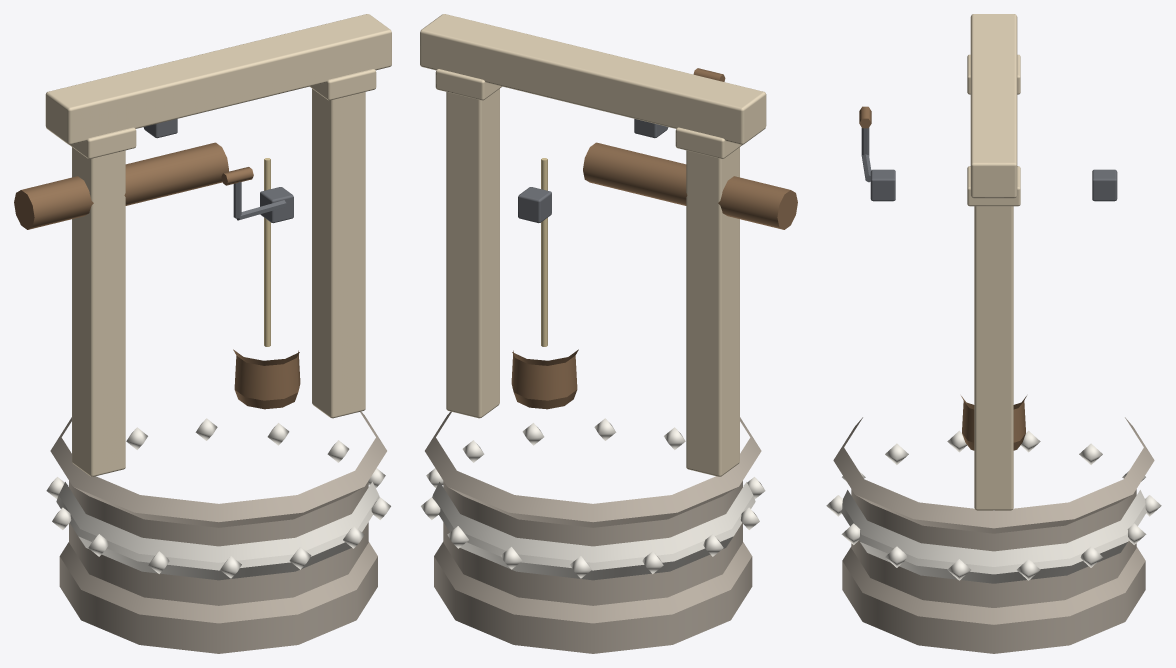
Rendered from well-head-with-win-c58374ab.glb.
3 views of the same model, side by side, from view 1: azimuth 30°, elevation 25°; view 2: azimuth 150°, elevation 25°; view 3: azimuth 270°, elevation 25° (orthographic). The views are drawn at different scales.
Visible parts, largest first — view 1: well-head-with-windlass, windlass/cedar, windlass/iron; view 2: well-head-with-windlass, windlass/cedar, windlass/iron; view 3: well-head-with-windlass, windlass/iron.
Part boxes in pixels (x1,y1,x2,y2): well-head-with-windlass: (45,14,391,653); windlass/cedar: (14,142,253,229); windlass/iron: (143,119,293,223); well-head-with-windlass: (420,14,766,653); windlass/cedar: (583,68,797,229); windlass/iron: (518,119,668,223); well-head-with-windlass: (826,14,1161,653); windlass/iron: (861,127,1117,201).
Size of the model in its own units: 2.2 by 3.1 by 1.88.
